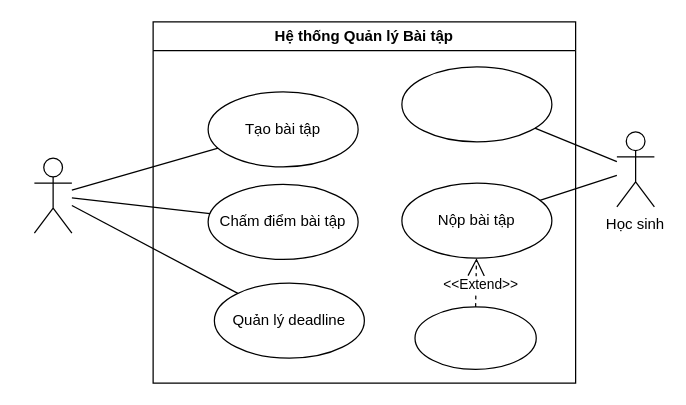
The diagram is 686 pixels wide and 405 high, and some of its shapes have lost their labels. The box of each missing label's shape, as (x1, y1, x2, y2) in pixels:
Giáo viên: (33, 157, 72, 233)
Xem điểm: (401, 66, 552, 142)
Đính kèm tệp: (414, 306, 536, 369)
